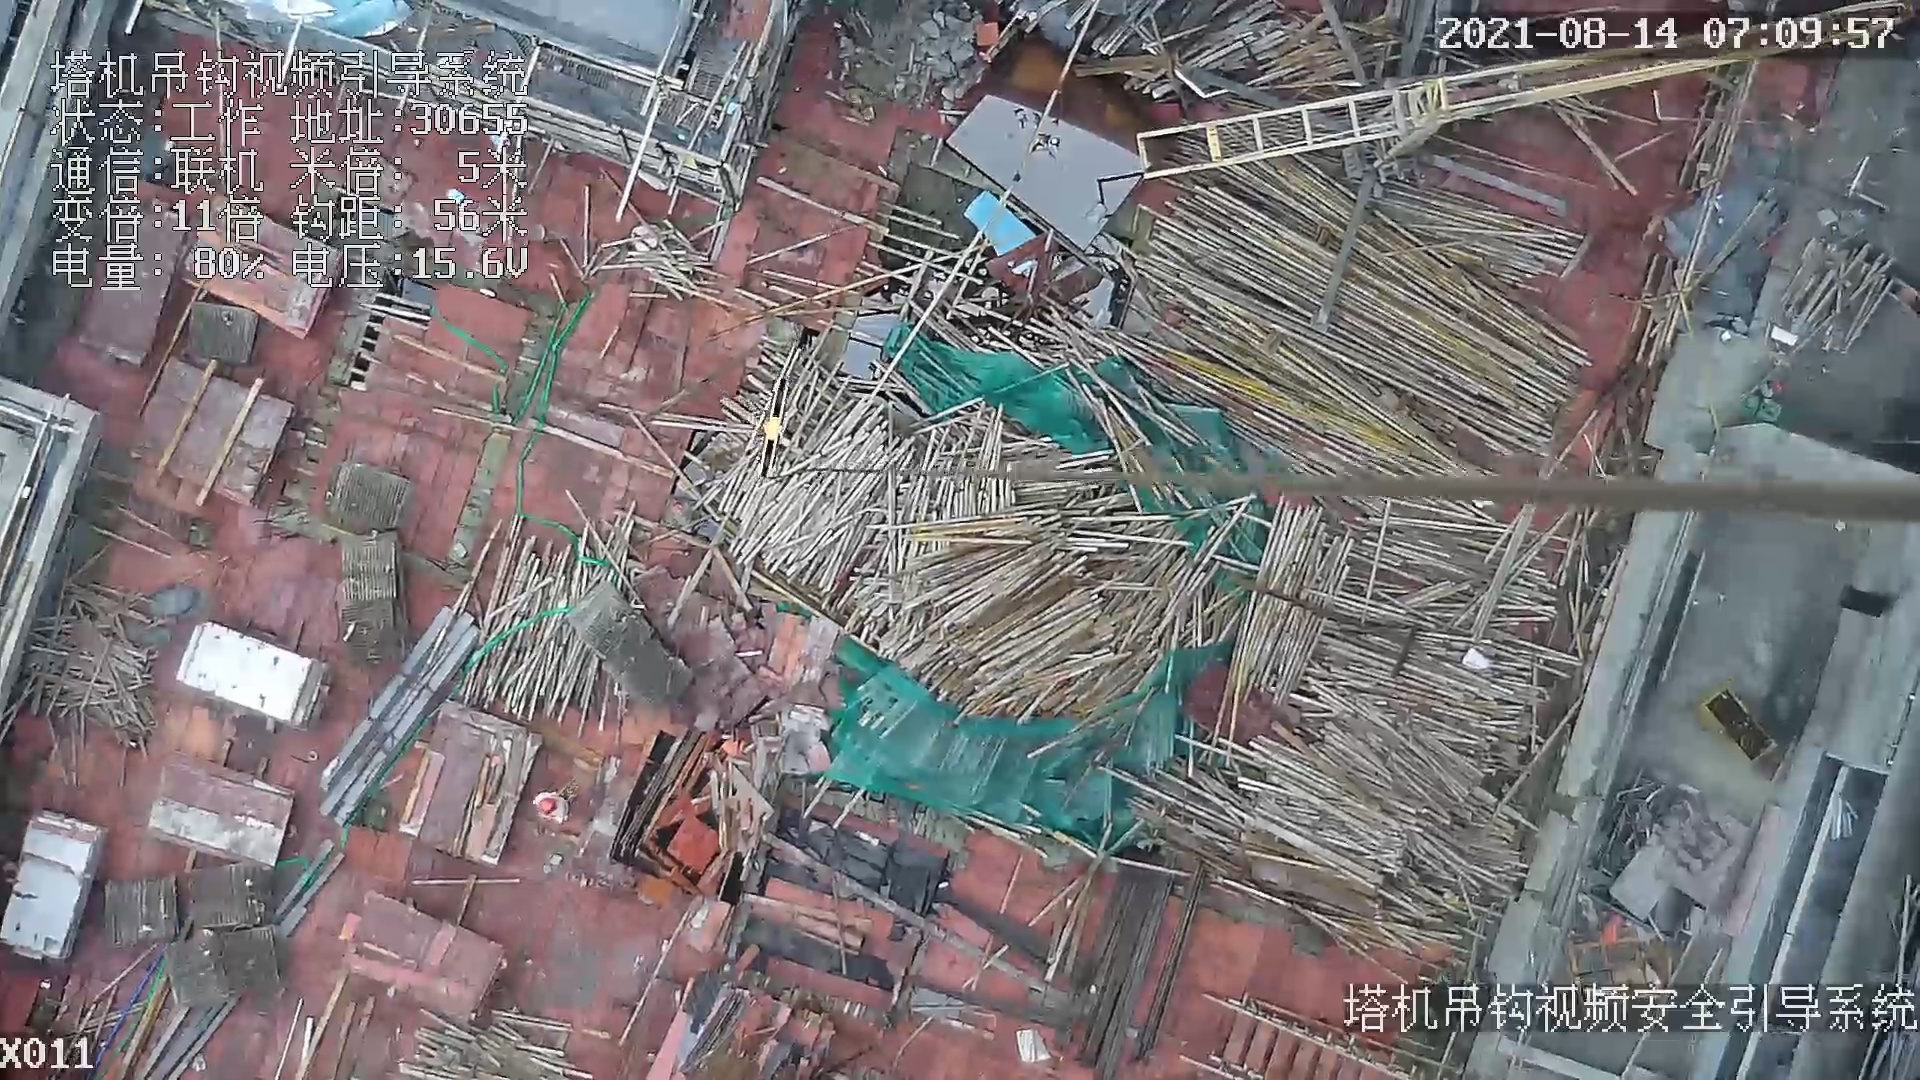helmet: (539, 797, 557, 816)
hook: (760, 374, 794, 481)
person: (536, 787, 586, 830)
